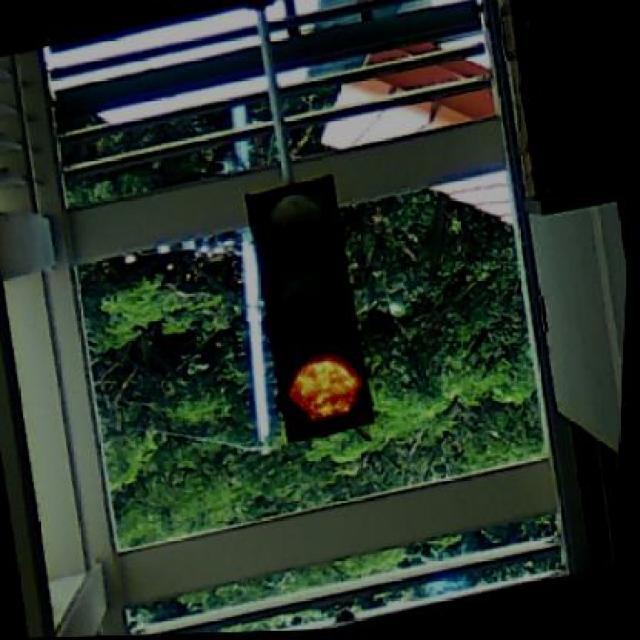red_light: (234, 176, 388, 449)
